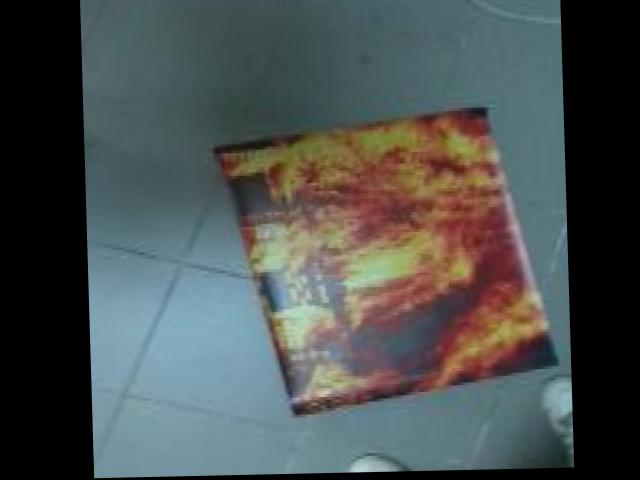fire-poster: (212, 102, 559, 422)
